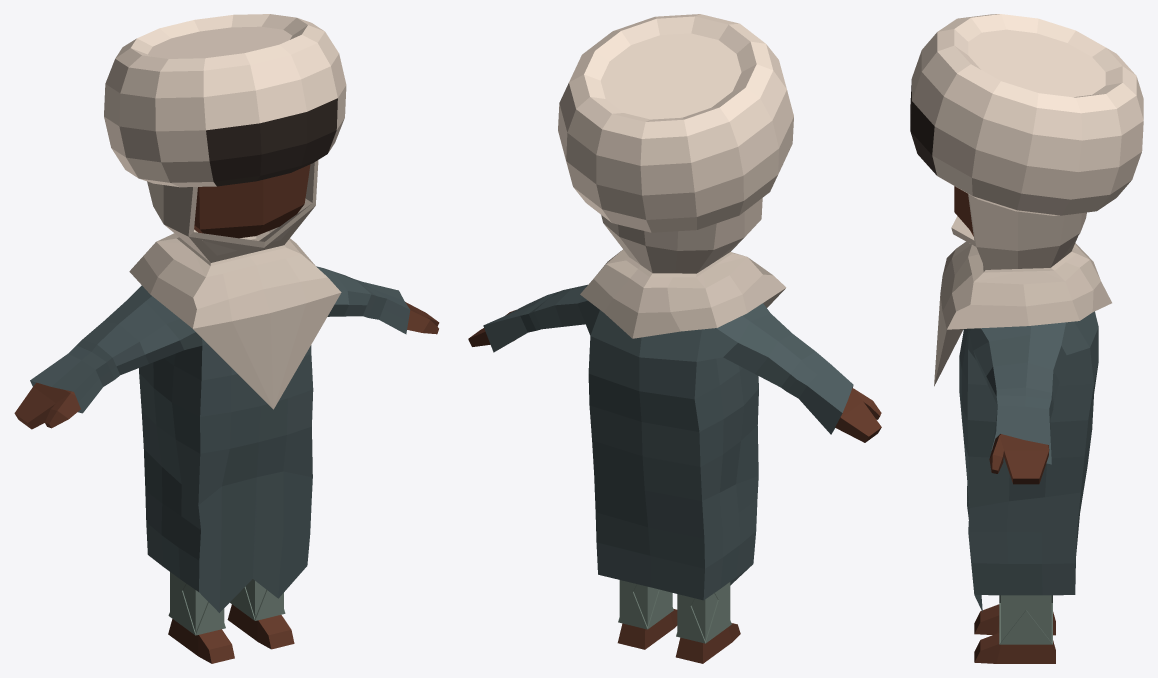
File: Tuaregue3.fbx
3 renders of one model, left to right at view 1: azimuth 30°, elevation 25°; view 2: azimuth 150°, elevation 25°; view 3: azimuth 270°, elevation 25°, orthographic. The views are drawn at different scales.
Visible parts, largest first — view 1: Roupa, Torus, Manto, Corpo; view 2: Roupa, Torus, Manto, Corpo; view 3: Torus, Roupa, Manto, Corpo.
Boxes of the visible parts, bbox=[...] form: Roupa: bbox=[30, 266, 410, 612]; Torus: bbox=[104, 14, 346, 187]; Manto: bbox=[129, 160, 341, 409]; Corpo: bbox=[14, 164, 439, 663]; Roupa: bbox=[483, 284, 853, 600]; Torus: bbox=[558, 14, 793, 232]; Manto: bbox=[580, 198, 786, 338]; Corpo: bbox=[468, 310, 881, 663]; Torus: bbox=[910, 14, 1143, 215]; Roupa: bbox=[959, 311, 1098, 611]; Manto: bbox=[934, 194, 1111, 386]; Corpo: bbox=[954, 186, 1055, 663].
Size of the model in its own units: 424 by 603 by 211.
